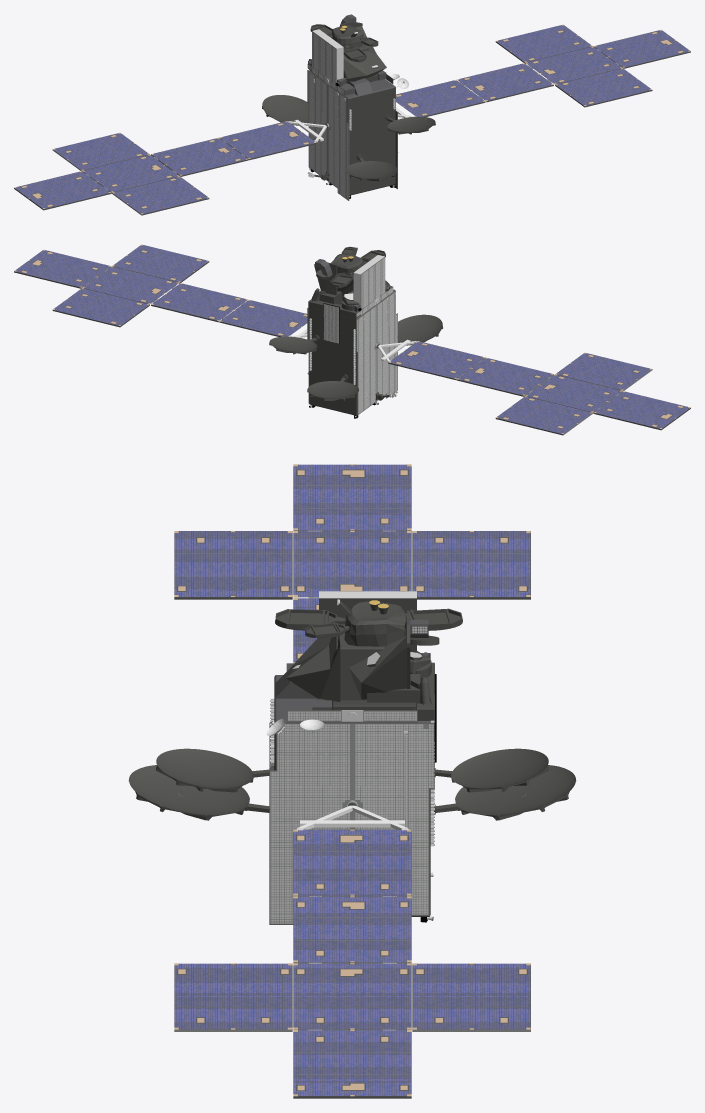
The model's file is lunar-laser-communications-demonstration-llcd.glb.
3 views of the same model, one above another, from view 1: azimuth 30°, elevation 25°; view 2: azimuth 150°, elevation 25°; view 3: azimuth 270°, elevation 25° (orthographic). The views are drawn at different scales.
Visible parts, largest first — view 1: Layer_0; view 2: Layer_0; view 3: Layer_0.
Part boxes in pixels (left/top/right/bottom): Layer_0: left=14, top=14, right=690, bottom=215; Layer_0: left=14, top=244, right=690, bottom=435; Layer_0: left=128, top=464, right=576, bottom=1098.
Bounding box in the file's own units: 268 × 61.25 × 80.36.
2 materials, 2 textured.
